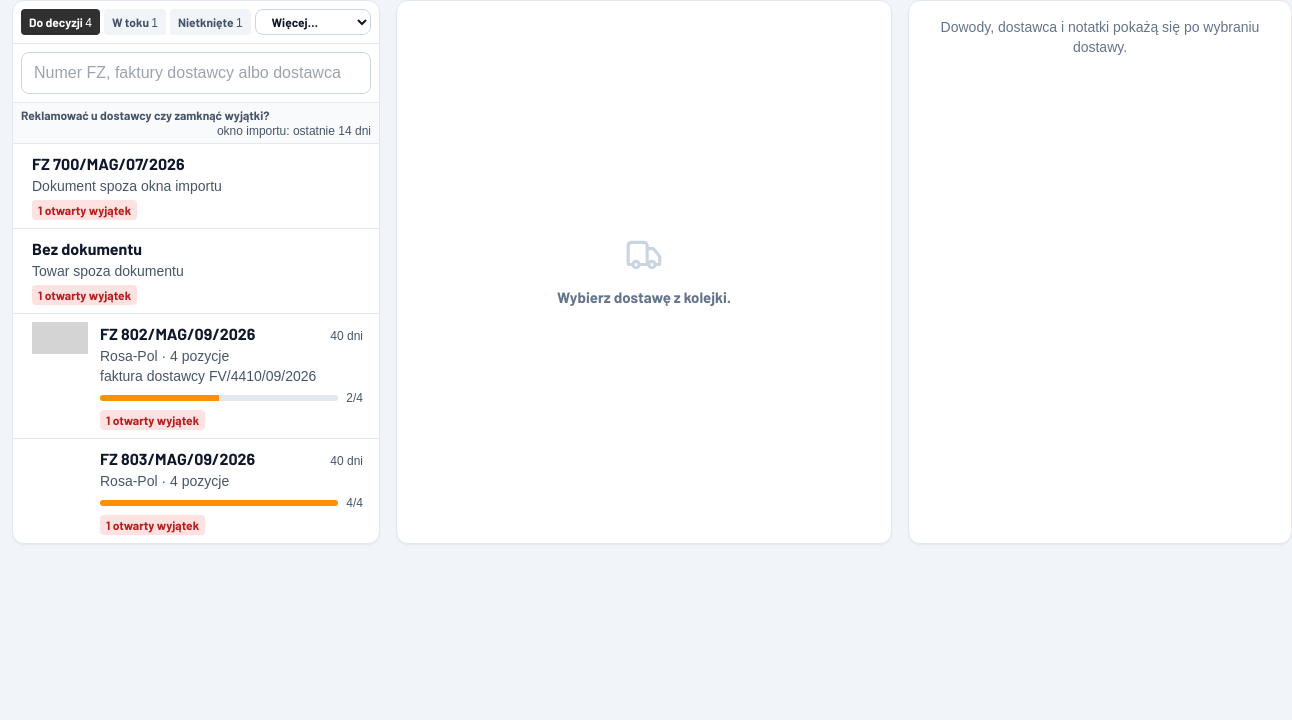
Test: adres z kubełkiem i frazą › wiersz i karta niosą numer faktury dostawcy, a szukanie go znajduje
Check: the button "FZ 802/MAG/09/2026" shows "faktura dostawcy FV/4410/09/2026", box [13, 314, 379, 438]
Check: the button "FZ 803/MAG" does not show "faktura dostawcy", box [13, 439, 379, 543]
Step 1. Type "4410" into the field named "Szukaj dostawy" → [196, 73], box [21, 52, 371, 94]
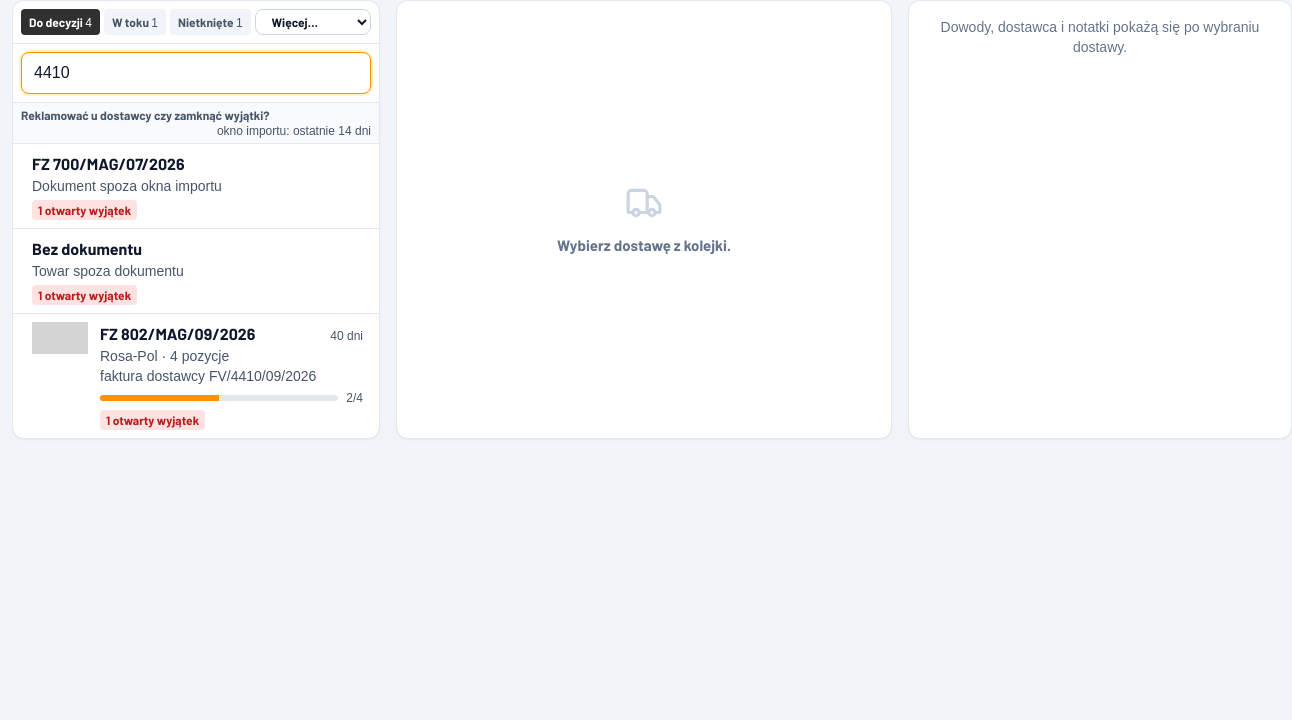
Check: the button "FZ 802/MAG" is shown, box [13, 314, 379, 438]
Check: the button "FZ 803/MAG" is gone
